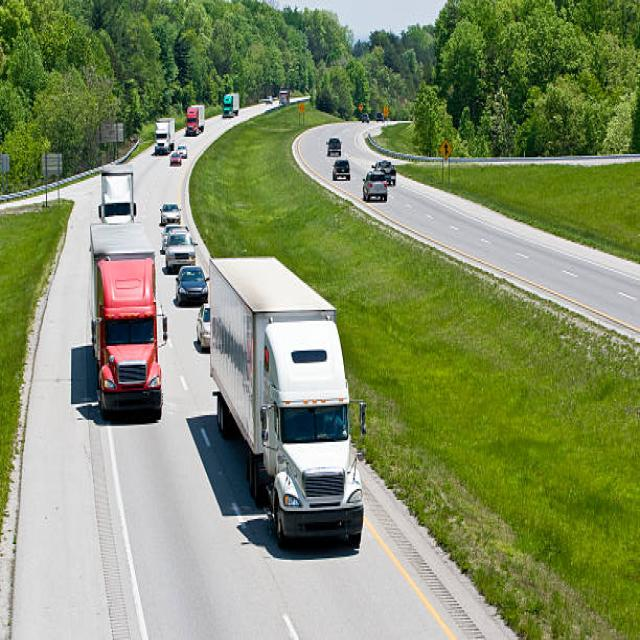Car: (175, 264, 208, 305), (196, 302, 210, 349), (332, 159, 351, 179)
Truck: (208, 255, 366, 547), (88, 222, 167, 420), (97, 164, 136, 224), (153, 116, 174, 154), (185, 104, 204, 135), (222, 92, 238, 116)
